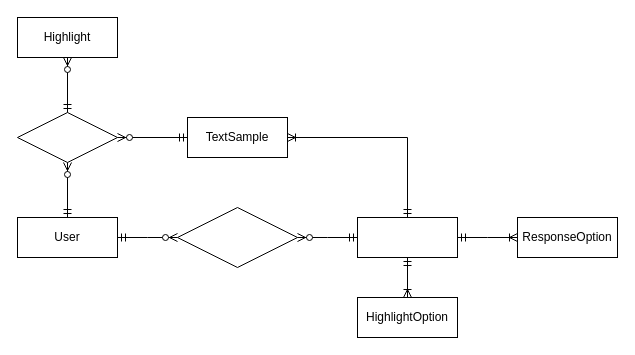
Some shapes in this 635 by 355 pixel diagram are drawn without their labels. The centre of each missing label's shape, as x and y in pixels:
DataSet: the point at 407,237
DatasetPermission: the point at 237,237
UserResponse: the point at 67,137
